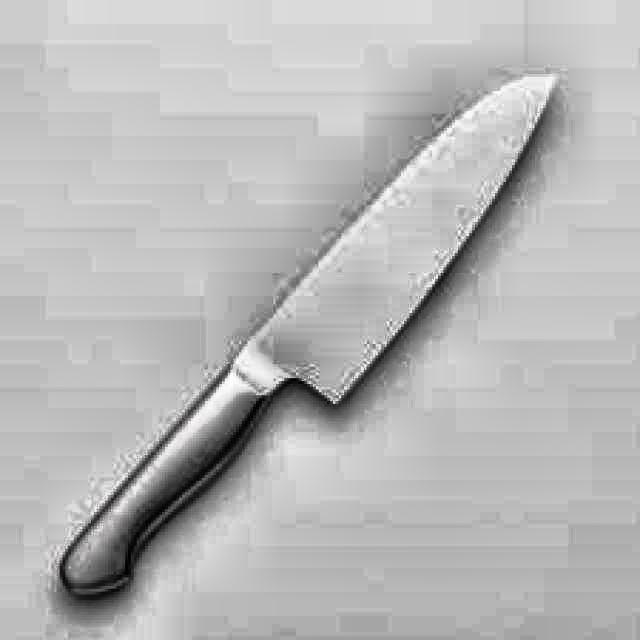knife: (55, 67, 572, 605)
